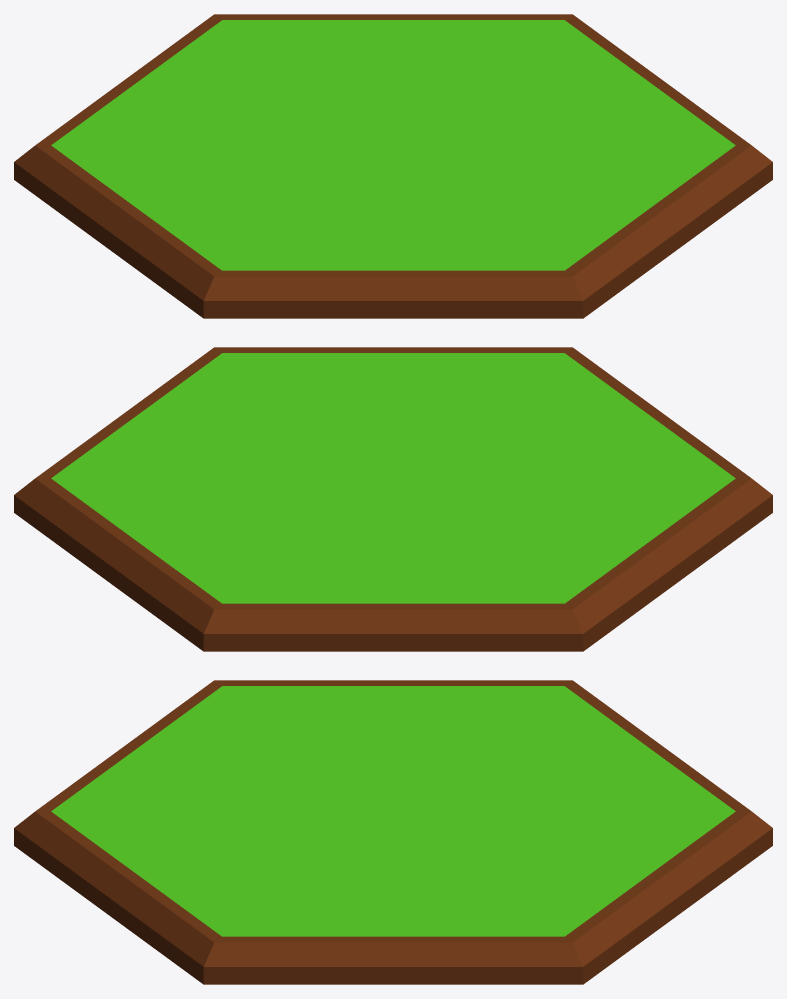
File: grass_hex.fbx
The picture shows the model from 3 angles, top to bottom: view 1: azimuth 30°, elevation 25°; view 2: azimuth 150°, elevation 25°; view 3: azimuth 270°, elevation 25°; orthographic projection.
Parts seen in each view (by area): view 1: Cylinder; view 2: Cylinder; view 3: Cylinder.
Part boxes in pixels (bbox=[...]): Cylinder: bbox=[14, 14, 772, 318]; Cylinder: bbox=[14, 347, 772, 651]; Cylinder: bbox=[14, 680, 772, 984].
Bounding box in the file's own units: 173 × 10 × 200.
